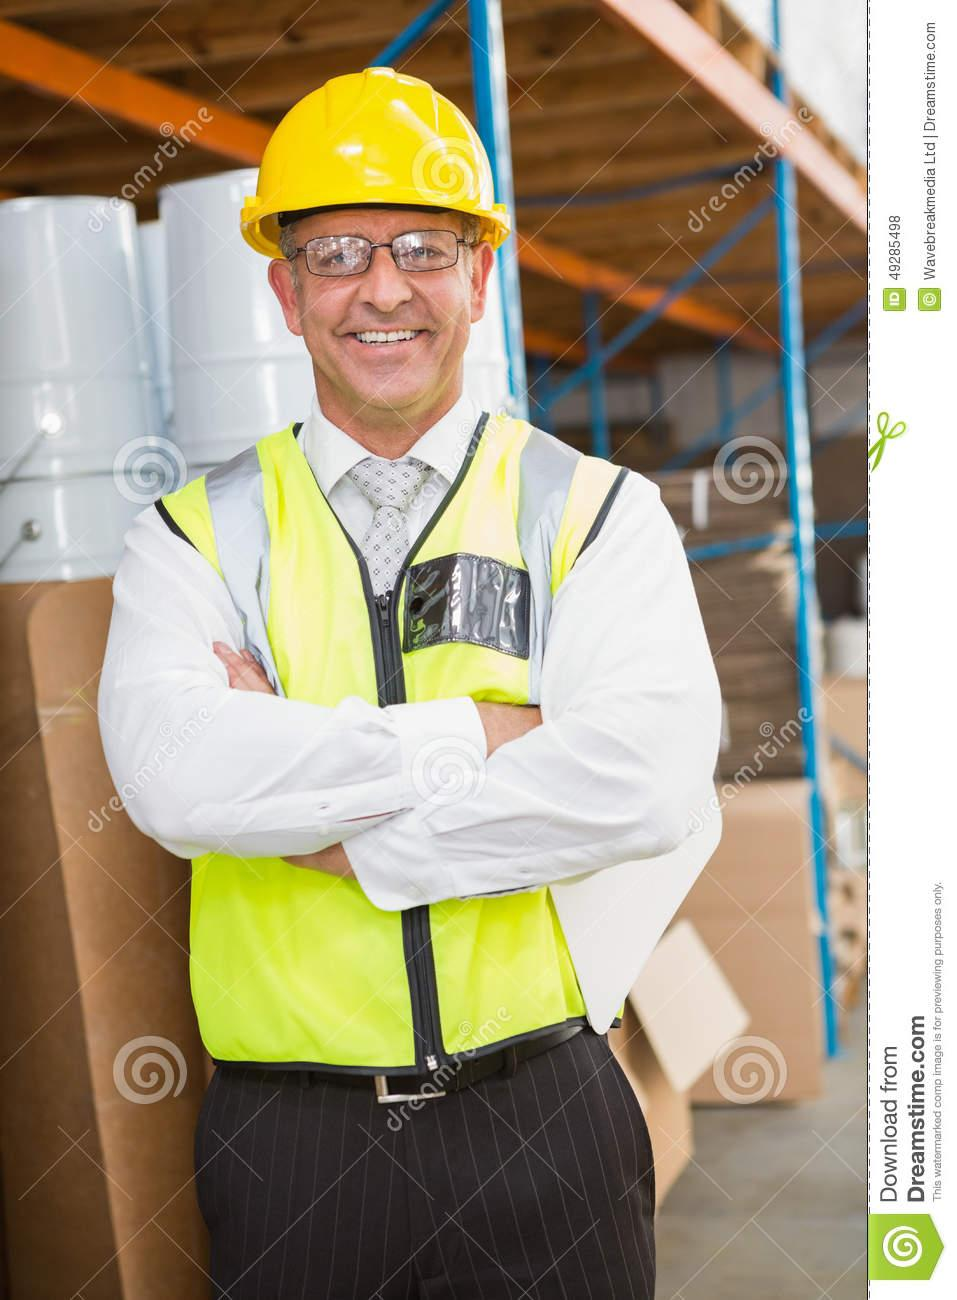helmet: (245, 67, 510, 252)
